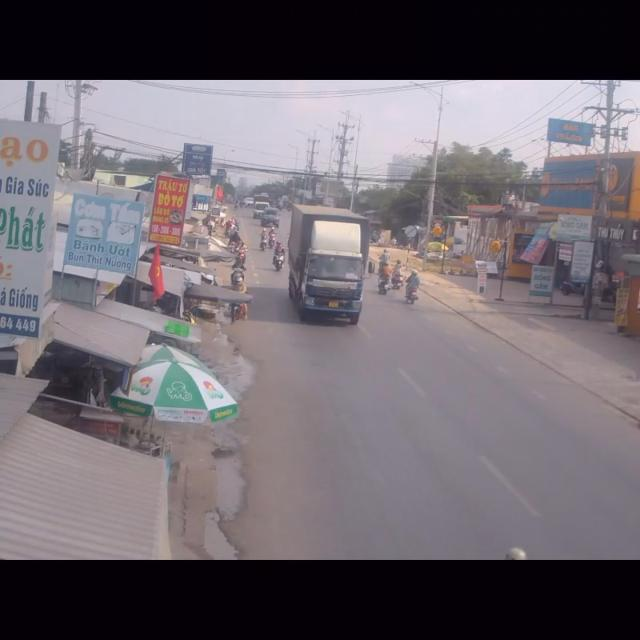truck: (292, 210, 370, 329)
